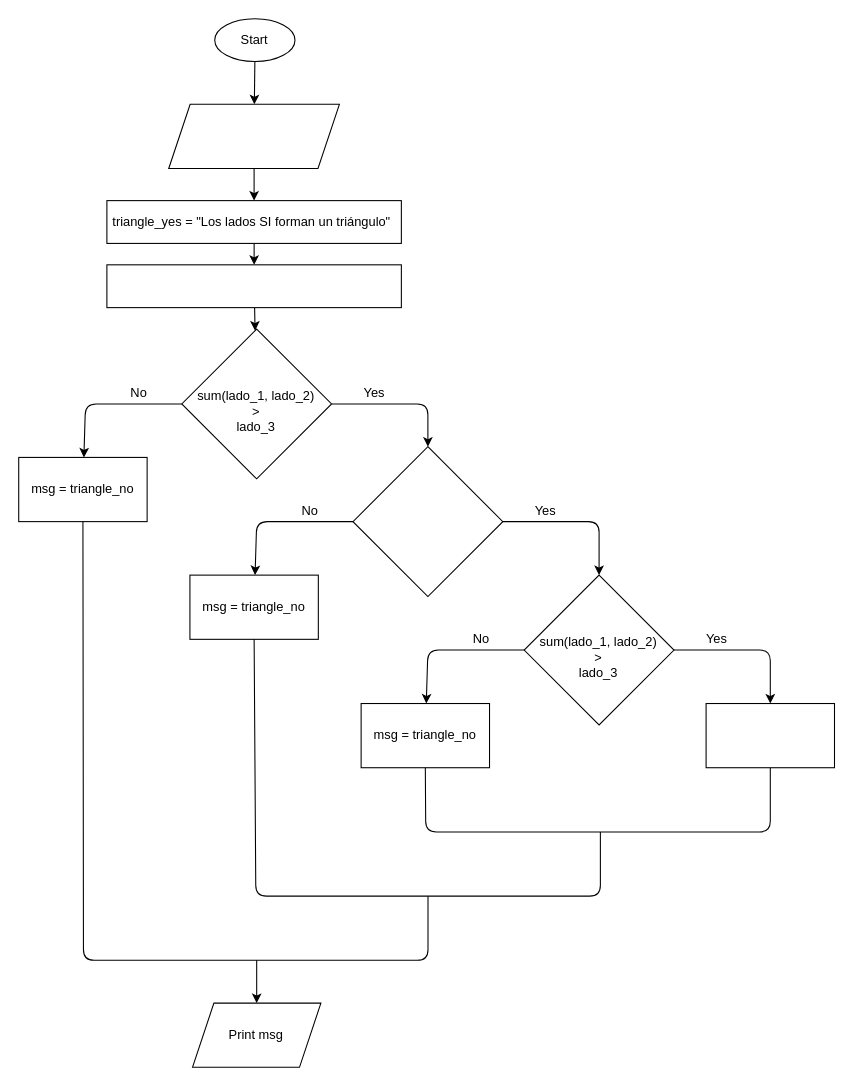
Image size: 854x1086. Some labels were removed from this diagram. Each missing label, with the centre of its shape:
msg = triangle_yes: the point at 769,735
Read lado_1, lado_2, lado_3: the point at 253,136
sum(lado_2, lado_3) > lado_1: the point at 427,521
triangle_no = "Los lados NO forman un triángulo": the point at 253,286
